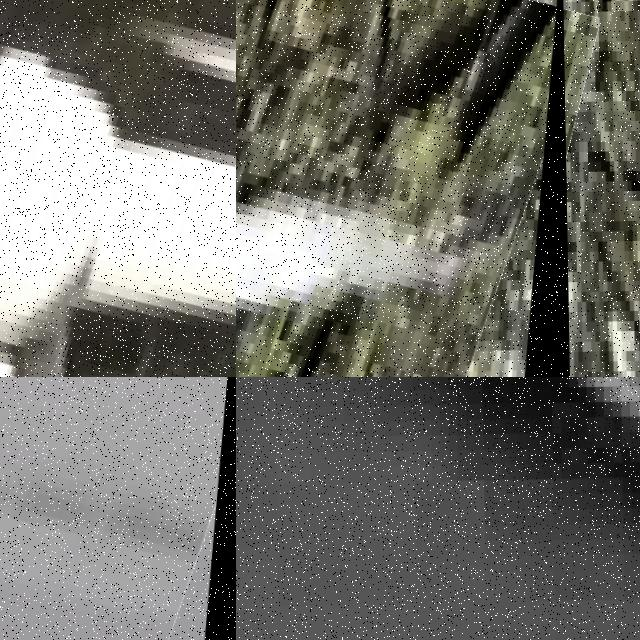drone: (236, 0, 572, 377), (0, 0, 236, 377), (0, 377, 236, 640)
